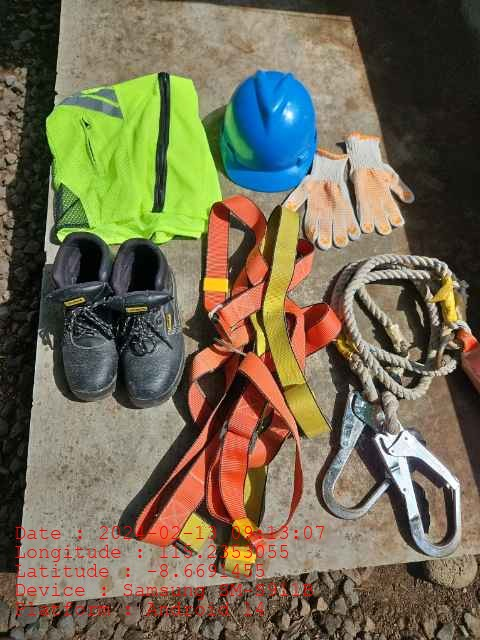HELM: (221, 70, 314, 192)
ROMPI: (45, 72, 215, 239)
SARUNG_TANGAN: (344, 133, 414, 234)
SEPATU: (53, 234, 182, 410)
TAMBANG_SLING: (321, 254, 480, 557)
